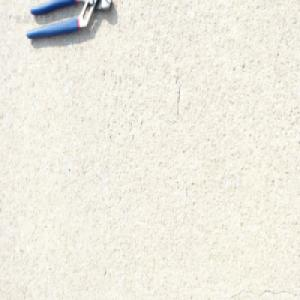Pliers: (25, 0, 114, 42)
